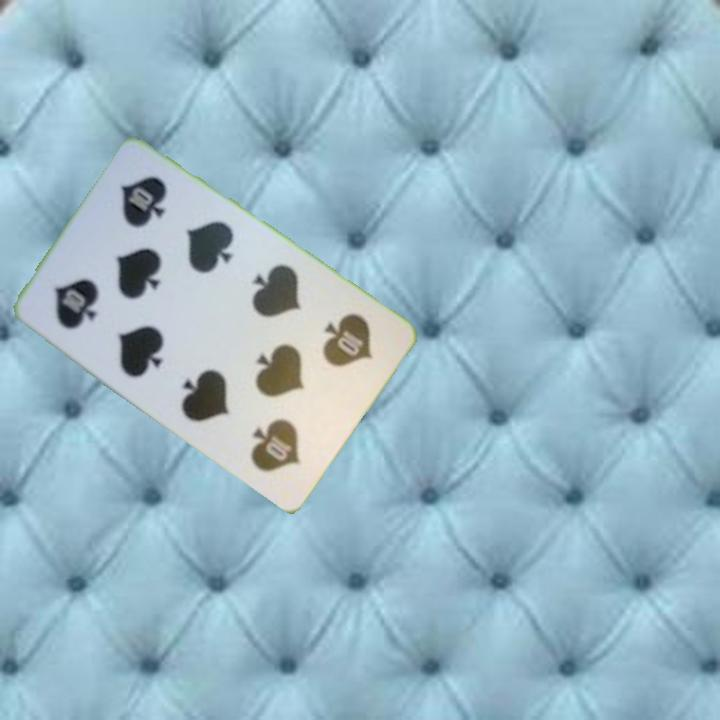s_10.png: (27, 230, 152, 359), (274, 288, 399, 416)
